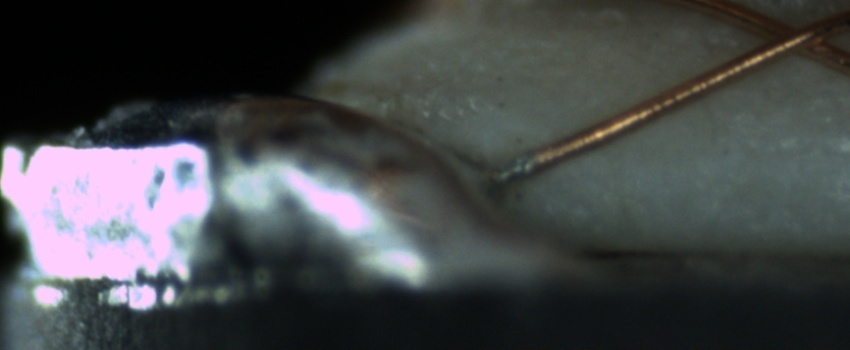CL: (737, 4, 842, 68)
TS: (490, 152, 541, 186)
